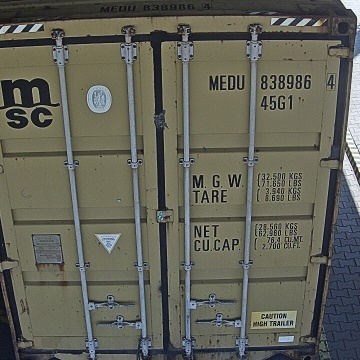serial_id: (209, 74, 335, 90)
